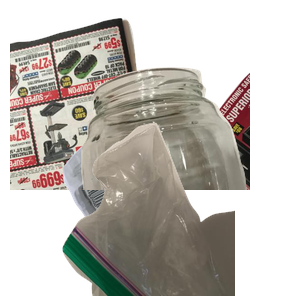glass: (74, 65, 300, 245)
paper: (10, 15, 250, 195)
plastic: (60, 120, 300, 300)
trash: (60, 120, 300, 300)
